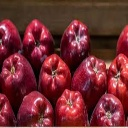apple: (90, 94, 126, 128)
